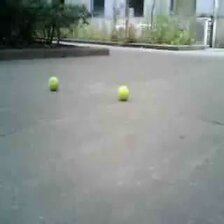tennis: (116, 86, 131, 101), (47, 77, 59, 90)
